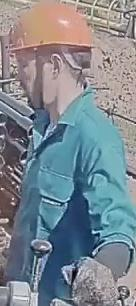gloves: (61, 250, 126, 306)
helmet: (8, 1, 96, 52)
vest: (3, 90, 136, 305)
